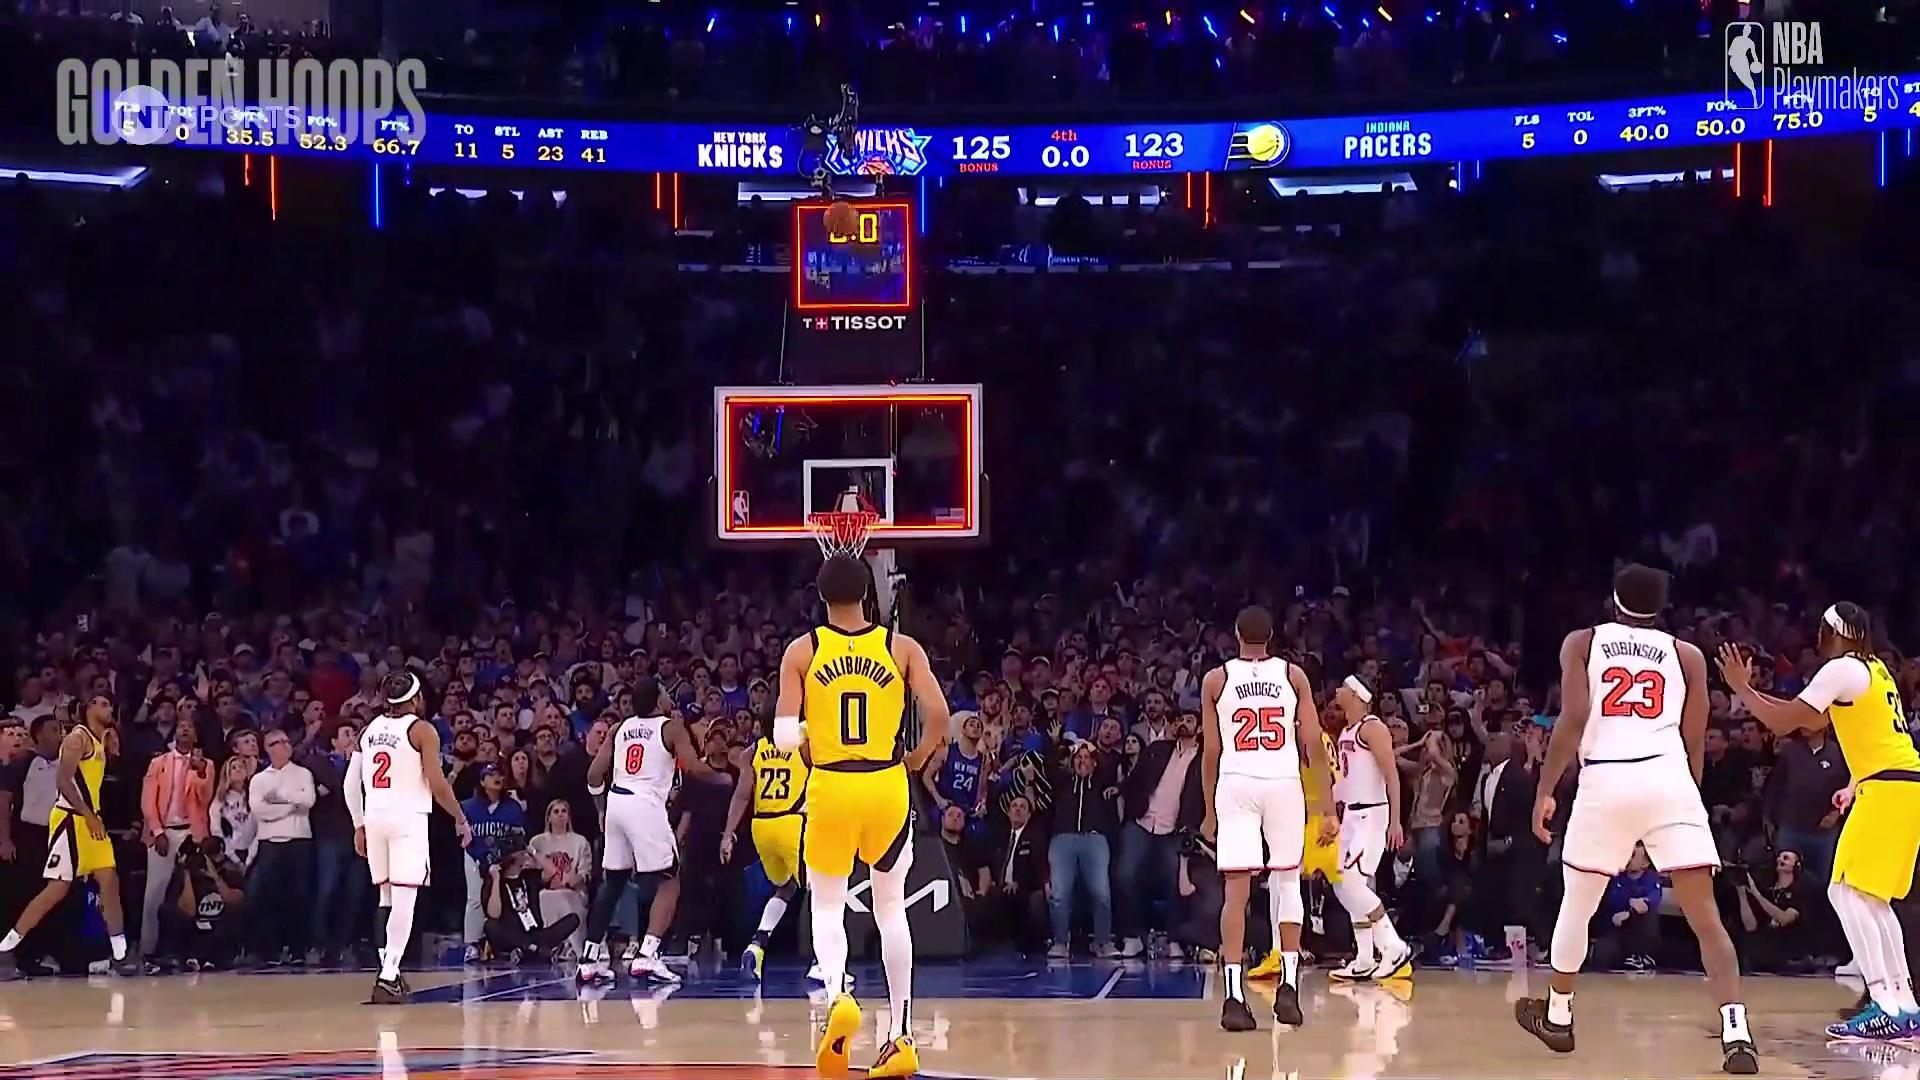ball: (824, 196, 860, 245)
hoop: (806, 502, 878, 550)
